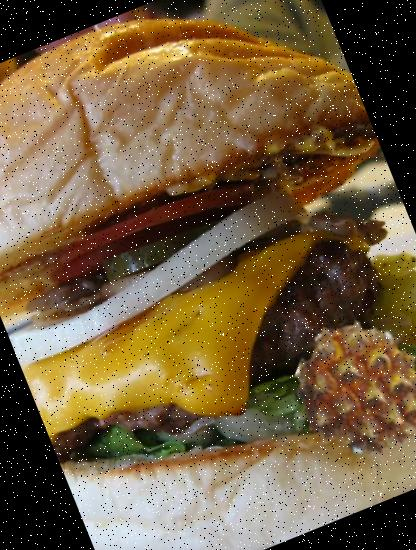Pineapple: (272, 297, 416, 483)
